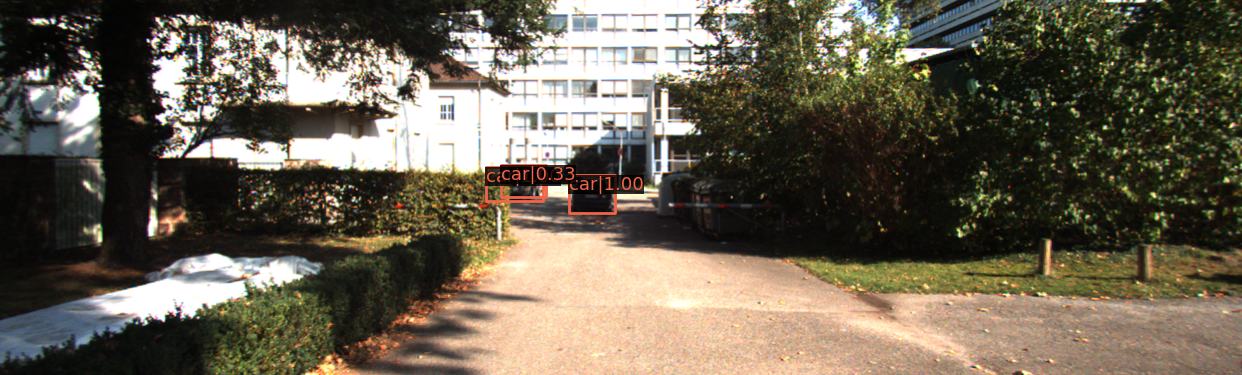car: (1218, 189, 1242, 375), (572, 177, 618, 214), (489, 171, 535, 202)
